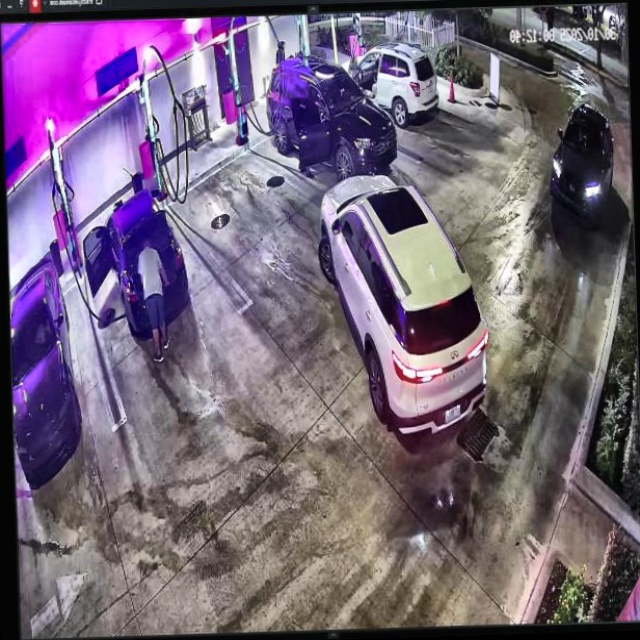Car: (318, 177, 490, 436), (268, 47, 396, 182), (82, 187, 186, 340)
